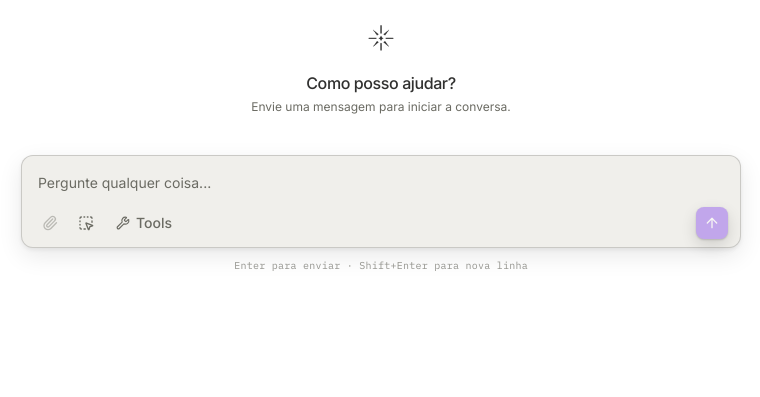
Test case: IslandChat › mostra chips de citação na bolha assistente
The width and height of the screenshot is (760, 397).
In the text box with placeholder "Pergunte qualquer coisa...": (381, 183) 30,164 -> 732,203, type "política"
Then press Enter
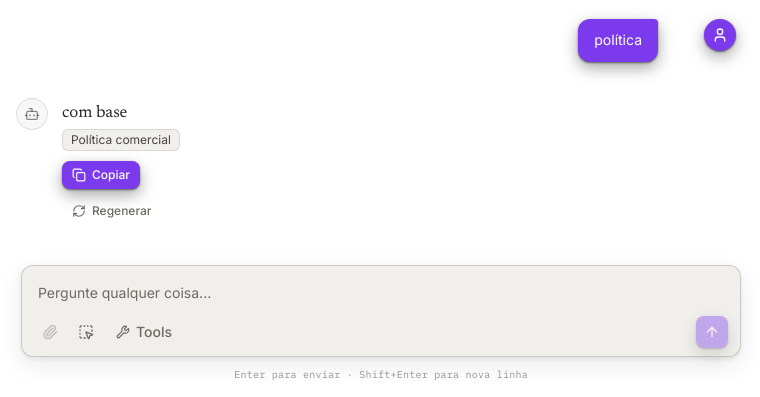
Check: the button "Política comercial" is shown, box 62,129 -> 180,151
